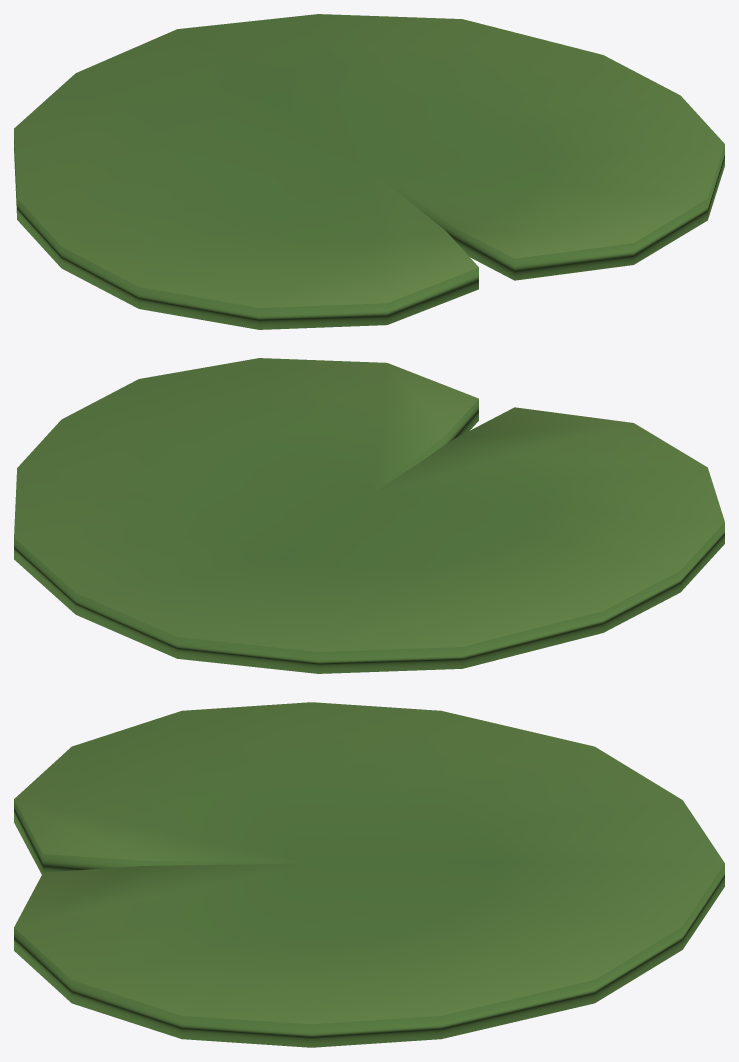
The model's file is underwater-aquatic-plants-lily-pad_v3.glb.
3 views of the same model, one above another, from view 1: azimuth 30°, elevation 25°; view 2: azimuth 150°, elevation 25°; view 3: azimuth 270°, elevation 25° (orthographic). The views are drawn at different scales.
Visible parts, largest first — view 1: Lily Pad_v3; view 2: Lily Pad_v3; view 3: Lily Pad_v3.
Boxes of the visible parts, x1,y1,x2,y2 form: Lily Pad_v3: (14, 14, 724, 329); Lily Pad_v3: (14, 358, 724, 673); Lily Pad_v3: (14, 702, 724, 1047).
Size of the model in its own units: 0.3 by 0.0101 by 0.2797.
